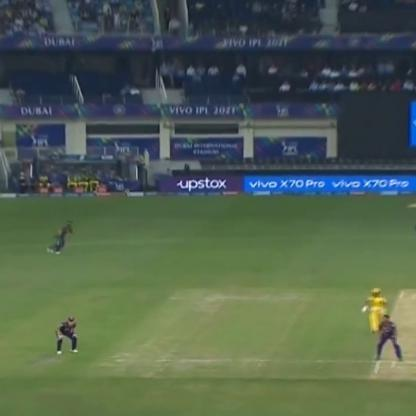pitch: (371, 284, 416, 378)
